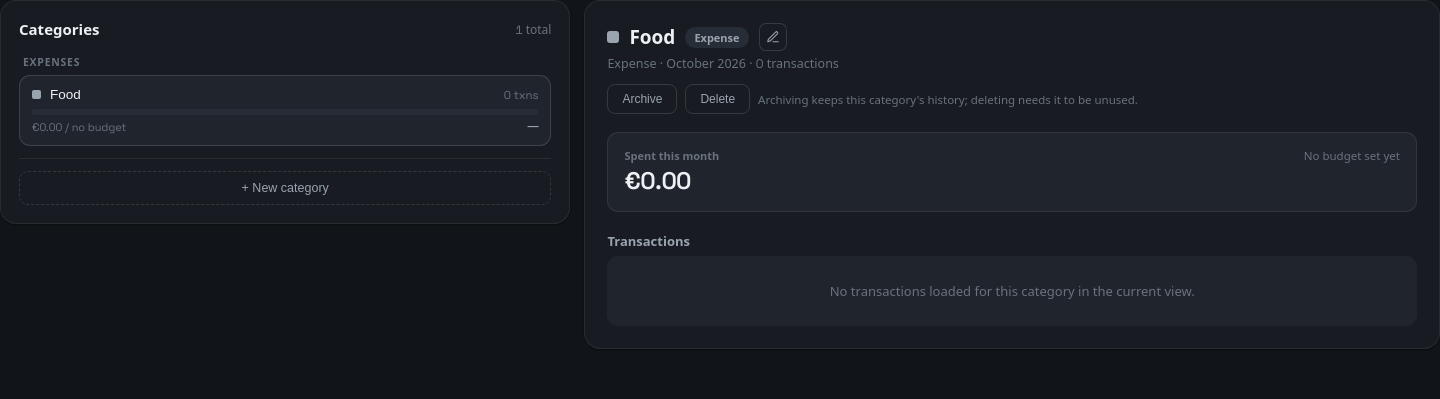
Scenario: CategoriesPage archiving and deleting › reports why a category could not be deleted
Step 1. Click the button "Delete" → (718, 99), box x1=685 y1=84 x2=750 y2=114
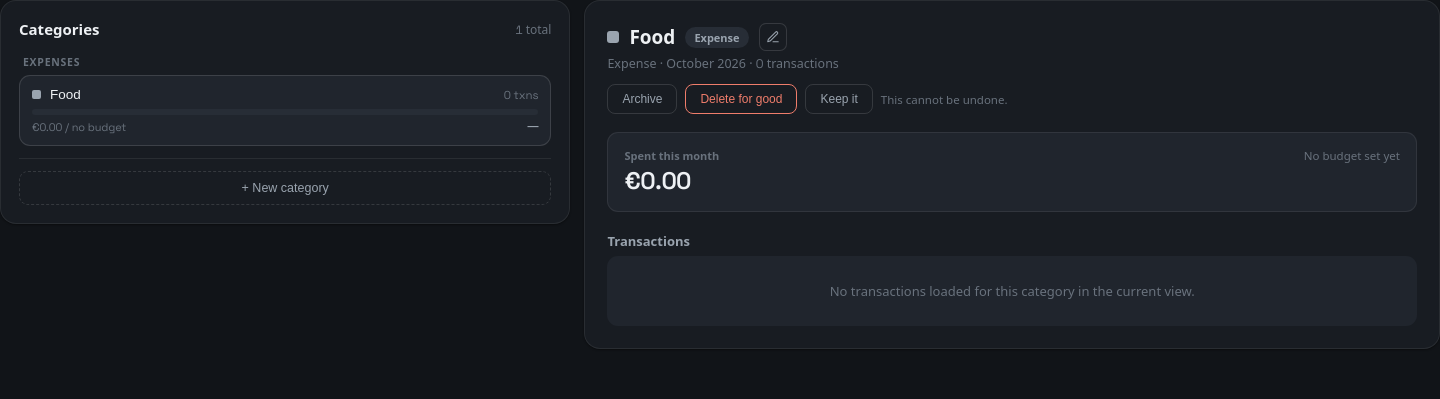
Step 2. Click the button "Delete for good" → (741, 99), box x1=685 y1=84 x2=798 y2=114
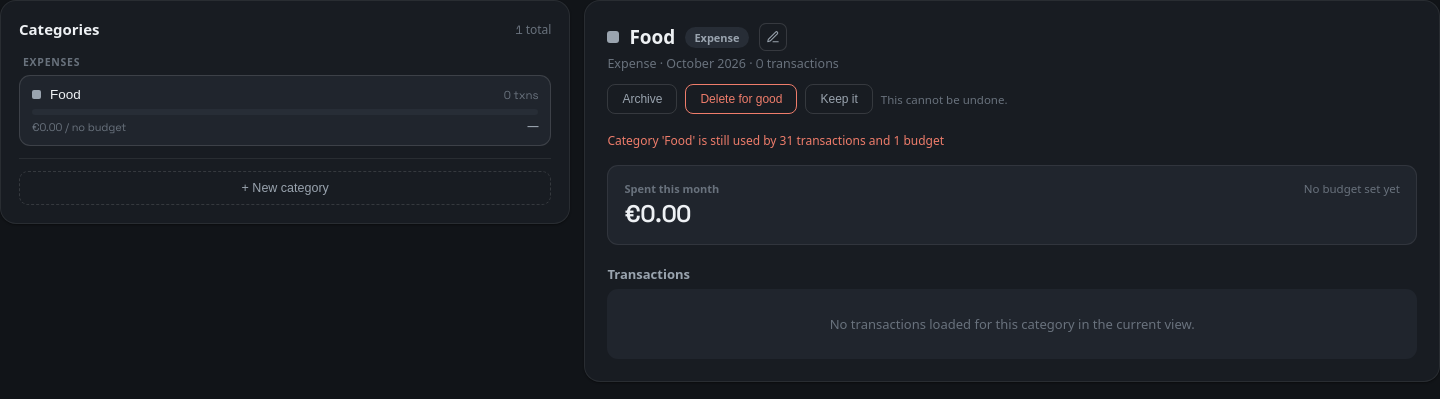
Expected: the text "Category 'Food' is still used by 31 transactions and 1 budget" is shown, x1=607 y1=132 x2=944 y2=149
